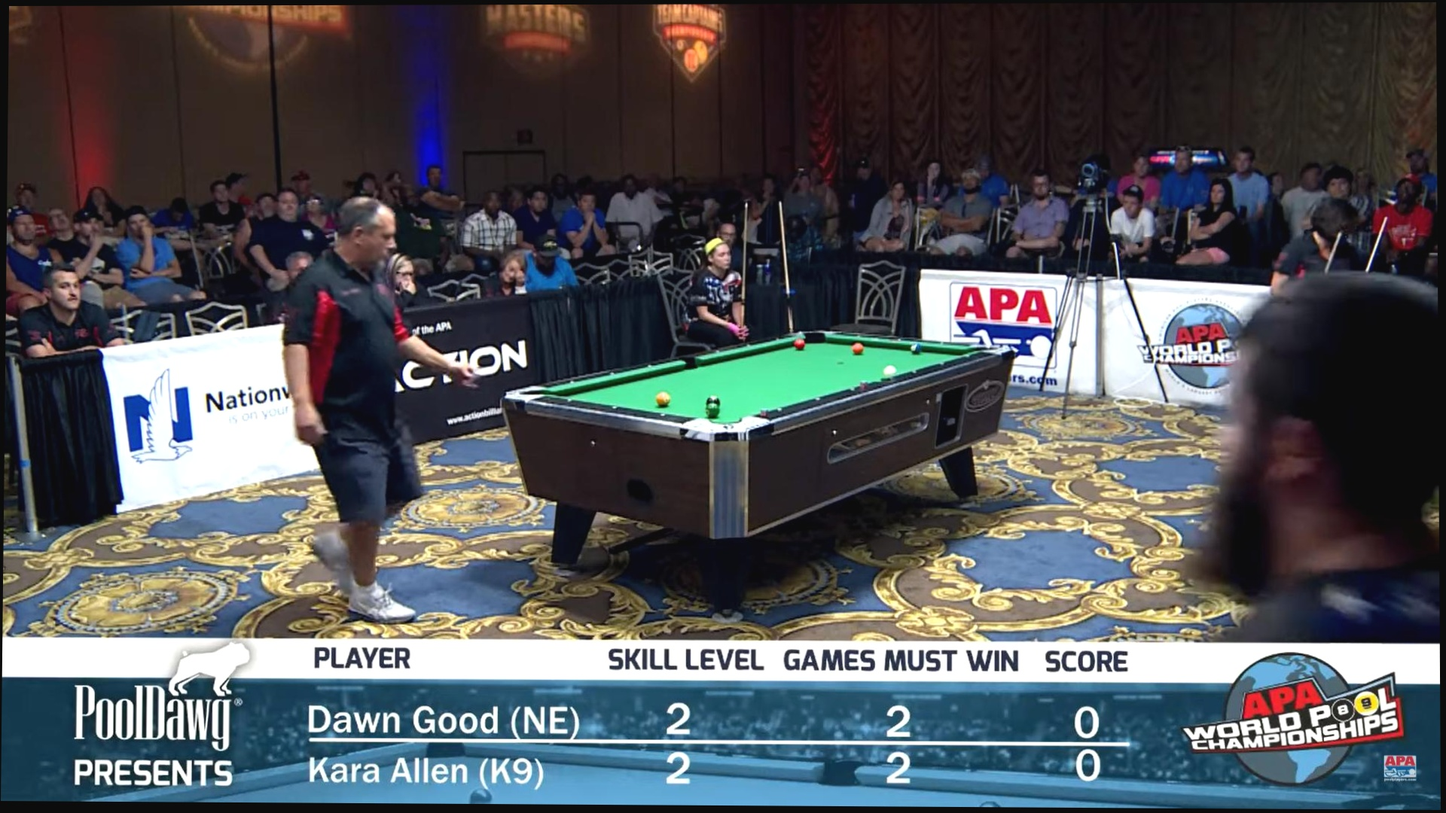Black: (706, 396, 720, 406)
Cue: (884, 365, 897, 378)
Solid: (607, 370, 618, 378), (644, 362, 655, 370), (743, 342, 754, 350), (894, 336, 905, 344), (909, 368, 920, 376), (774, 406, 785, 414), (657, 411, 668, 419), (937, 339, 947, 347), (962, 352, 972, 360), (848, 385, 858, 393), (813, 395, 823, 403), (564, 396, 574, 404), (712, 348, 723, 355), (772, 336, 783, 343), (567, 379, 577, 386), (854, 333, 864, 340), (937, 360, 947, 367), (609, 404, 619, 411)
Striped: (655, 392, 671, 407), (706, 403, 720, 418), (852, 342, 864, 354), (910, 343, 922, 354), (794, 339, 805, 350)
